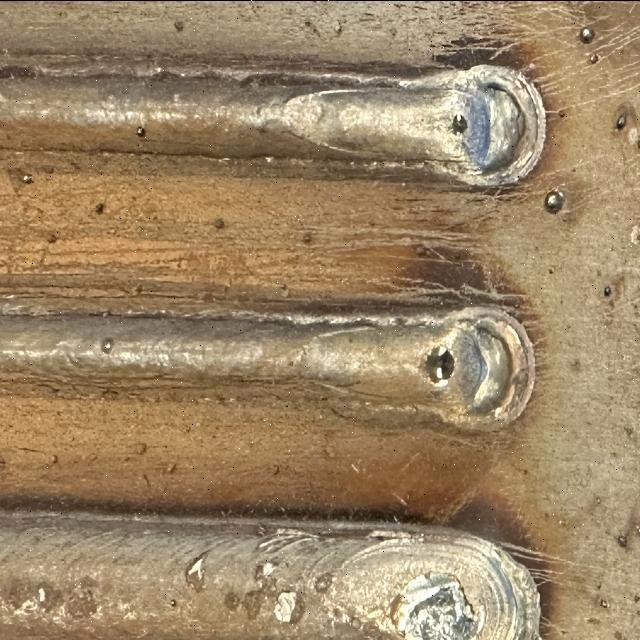Spatters: (544, 190, 564, 213), (579, 25, 594, 43), (615, 110, 627, 130), (101, 337, 112, 353), (301, 230, 312, 245), (134, 442, 146, 455), (212, 217, 225, 228), (618, 533, 628, 547), (588, 52, 599, 63), (136, 125, 145, 137), (22, 173, 32, 183), (95, 202, 104, 213), (604, 285, 611, 297), (600, 598, 609, 607), (100, 310, 110, 318), (558, 107, 565, 118), (51, 453, 58, 463), (170, 598, 176, 607)
